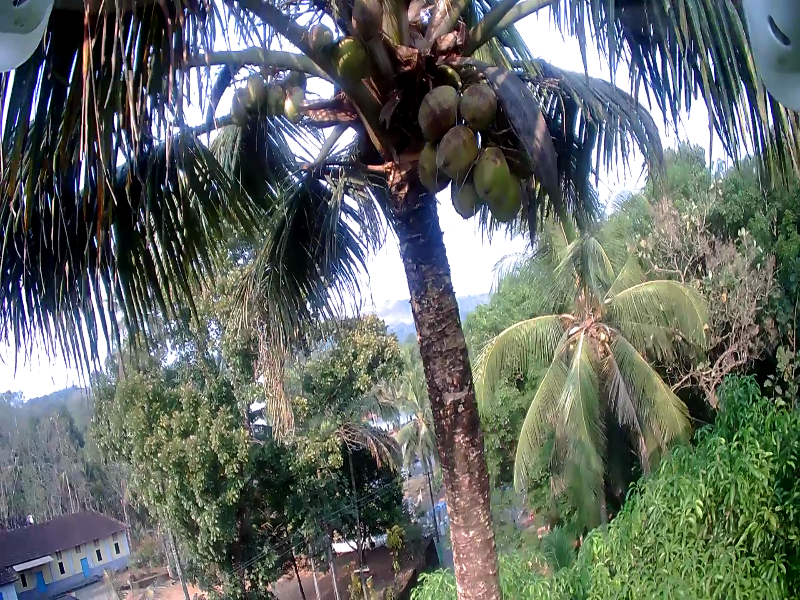coconut: (418, 81, 457, 128), (472, 146, 503, 197), (460, 79, 495, 124), (436, 125, 468, 171), (421, 141, 450, 188), (492, 174, 518, 223), (455, 172, 476, 219), (241, 69, 266, 104), (307, 24, 329, 60), (226, 86, 248, 119), (336, 33, 357, 61), (281, 67, 307, 87), (263, 76, 277, 112), (345, 56, 361, 84), (283, 85, 301, 108)
